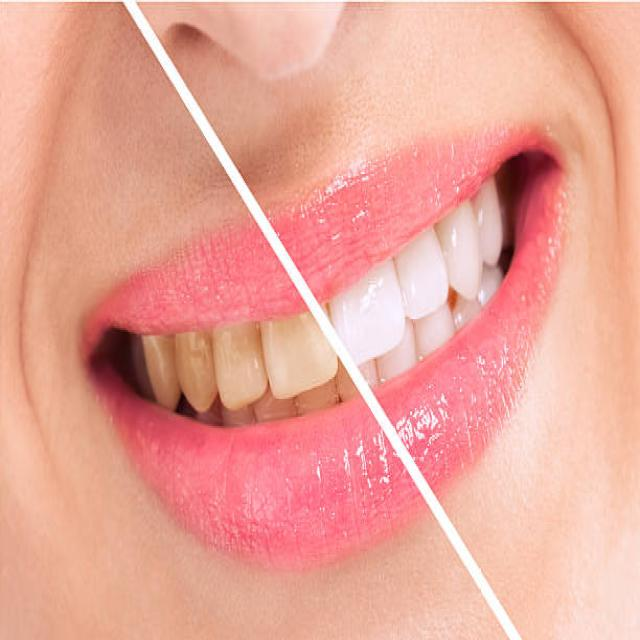tooth: (258, 319, 335, 381), (334, 297, 408, 353), (172, 328, 214, 412), (398, 241, 444, 308), (440, 209, 484, 279), (216, 332, 264, 395), (144, 341, 182, 404), (413, 308, 454, 357), (380, 325, 413, 377), (480, 194, 505, 259), (338, 366, 380, 394), (297, 384, 337, 410), (258, 398, 300, 421), (483, 267, 501, 299), (453, 299, 479, 321), (219, 410, 251, 424)
